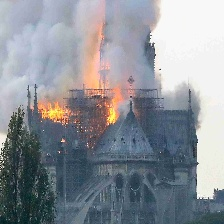fire: (36, 101, 73, 125), (106, 92, 119, 125)
smoke: (1, 1, 197, 109)
